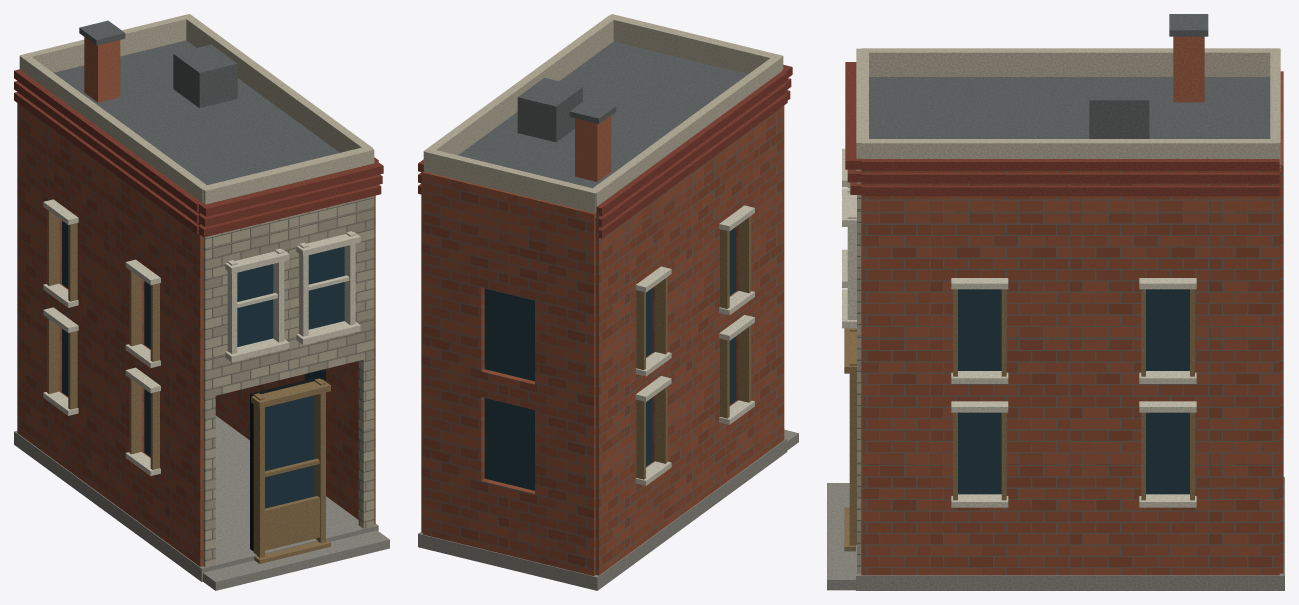
File: CLSTGA14_lod2.glb
3 renders of one model, left to right at view 1: azimuth 30°, elevation 25°; view 2: azimuth 150°, elevation 25°; view 3: azimuth 270°, elevation 25°, orthographic. The views are drawn at different scales.
Visible parts, largest first — view 1: CLSTGA14_LOD2; view 2: CLSTGA14_LOD2; view 3: CLSTGA14_LOD2.
Part boxes in pixels (bbox=[...]): CLSTGA14_LOD2: bbox=[14, 14, 389, 590]; CLSTGA14_LOD2: bbox=[418, 14, 798, 590]; CLSTGA14_LOD2: bbox=[827, 14, 1284, 590].
Size of the model in its own units: 3.71 by 7.85 by 6.57.
11 materials, 9 textured.
